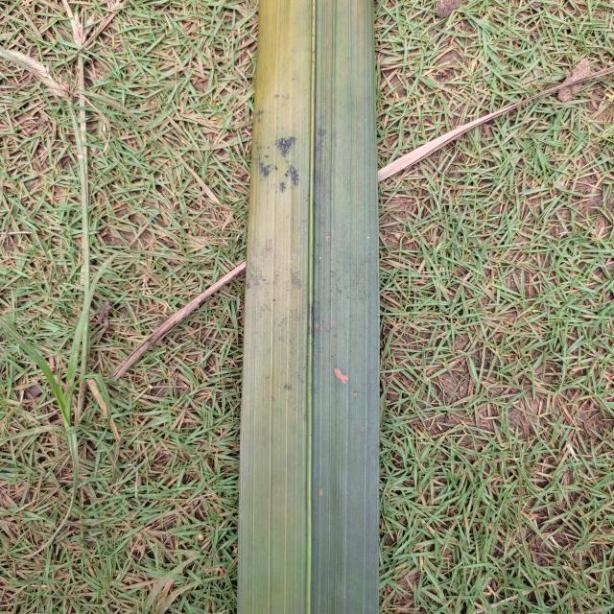Megnesium: (235, 0, 384, 614)
